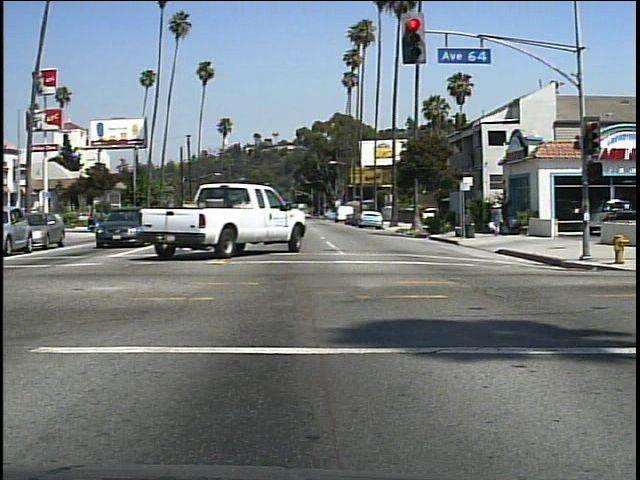person: (485, 197, 511, 242)
